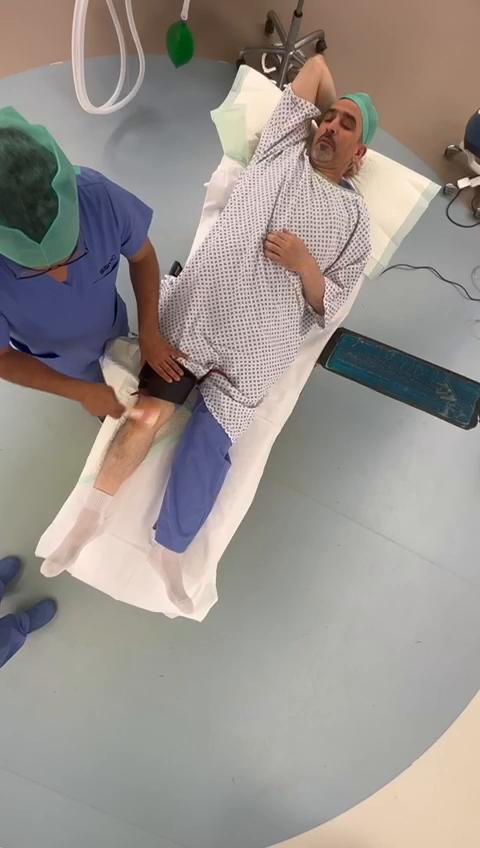patient: (41, 55, 378, 610)
prepstick: (124, 409, 159, 426)
tourniquet: (139, 363, 197, 405)
